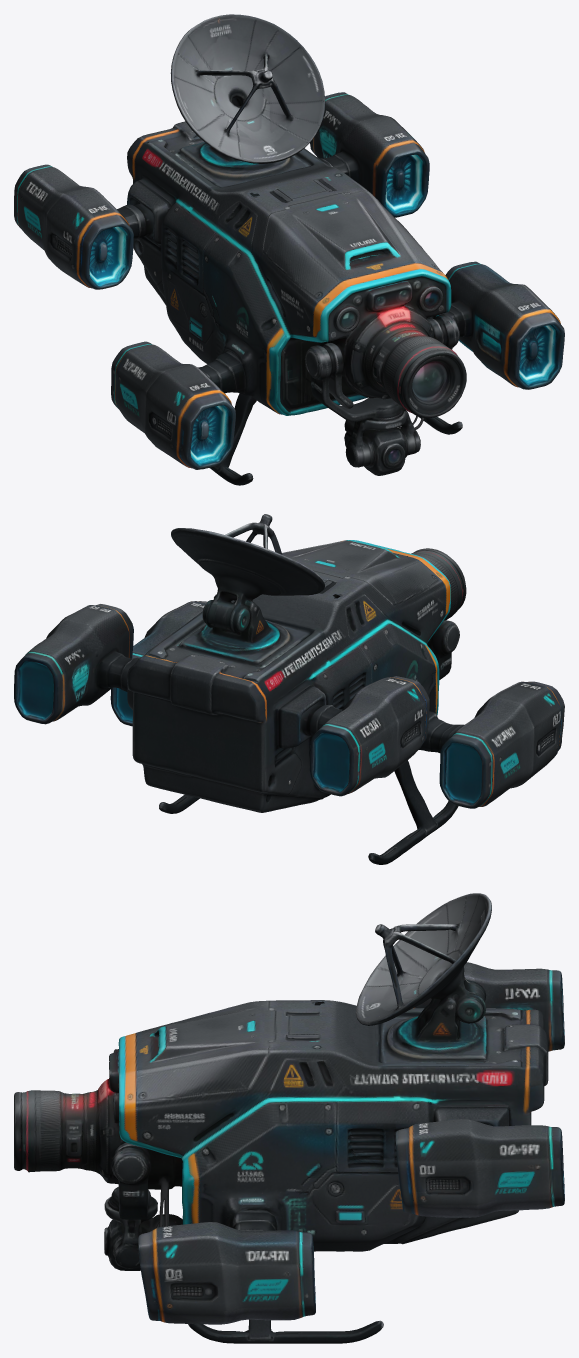
The model's file is tripo_convert_8782b919-0dbf-479c-97c8-91bd3c69ab3b.fbx.
3 renders of one model, top to bottom at view 1: azimuth 30°, elevation 25°; view 2: azimuth 150°, elevation 25°; view 3: azimuth 270°, elevation 25°, orthographic. The views are drawn at different scales.
Visible parts, largest first — view 1: tripo_node_8782b919; view 2: tripo_node_8782b919; view 3: tripo_node_8782b919.
Boxes of the visible parts, bbox=[...] form: tripo_node_8782b919: bbox=[14, 14, 564, 485]; tripo_node_8782b919: bbox=[14, 514, 564, 864]; tripo_node_8782b919: bbox=[14, 893, 564, 1343].
Bounding box in the file's own units: 0.8653 × 0.7484 × 0.9796.
Materials: 1 (1 with a texture image).
